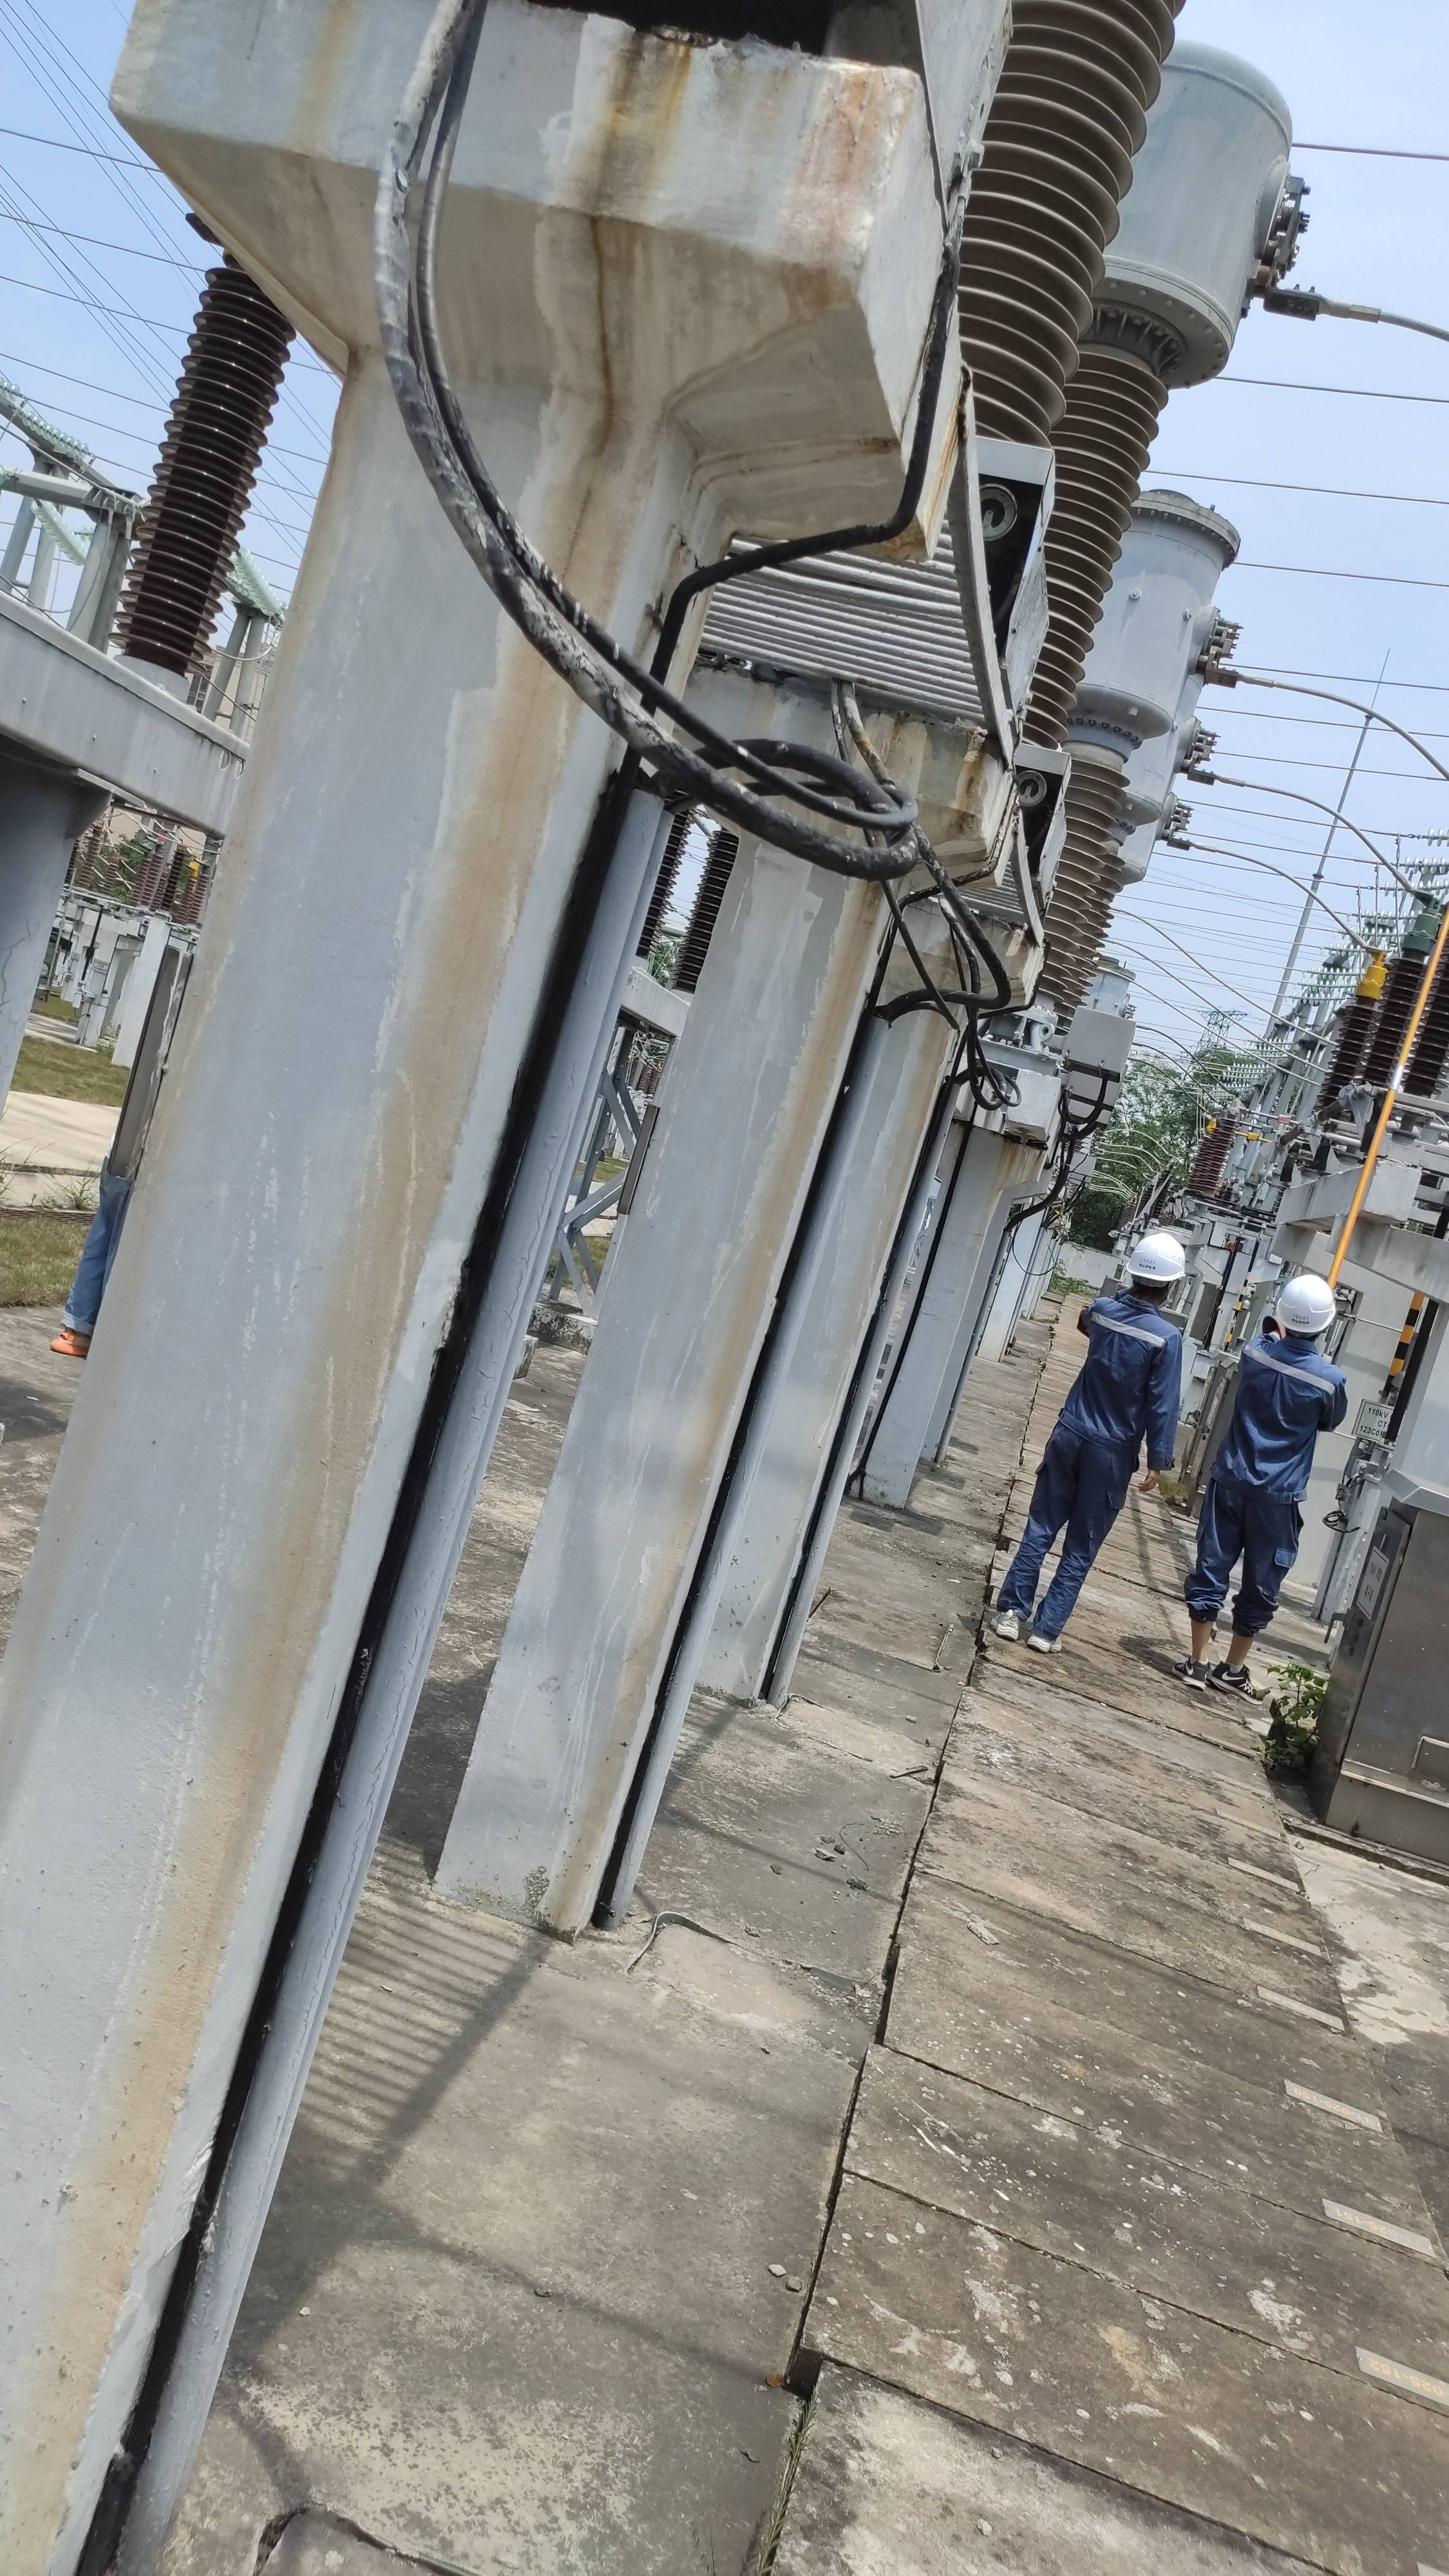downsuit: (1005, 1440, 1123, 1637), (1184, 1477, 1300, 1644)
upsuit: (1046, 1290, 1185, 1437), (1215, 1338, 1348, 1474)
wrongbottom: (1182, 1608, 1265, 1677)
